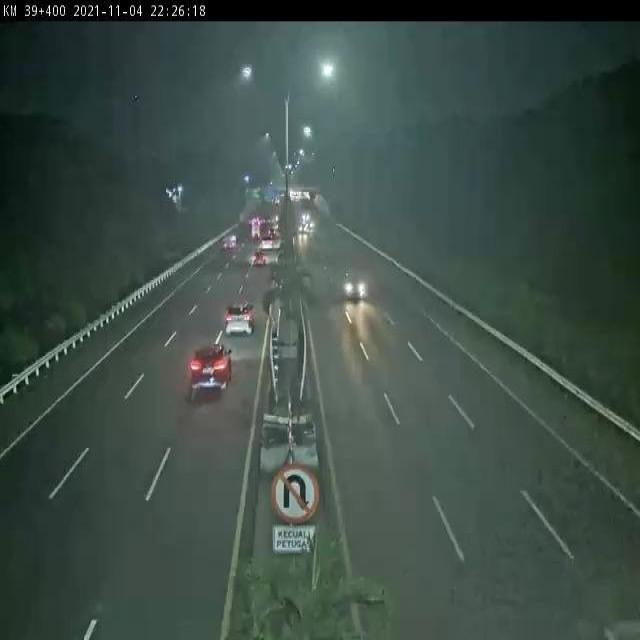car: (185, 336, 236, 405), (225, 280, 258, 345), (338, 260, 367, 308)
